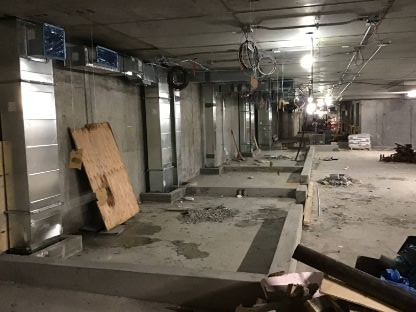Duct: (1, 13, 71, 259), (137, 55, 187, 195), (60, 37, 144, 87), (199, 72, 220, 170), (179, 63, 260, 86), (235, 88, 258, 158), (254, 91, 276, 151)
